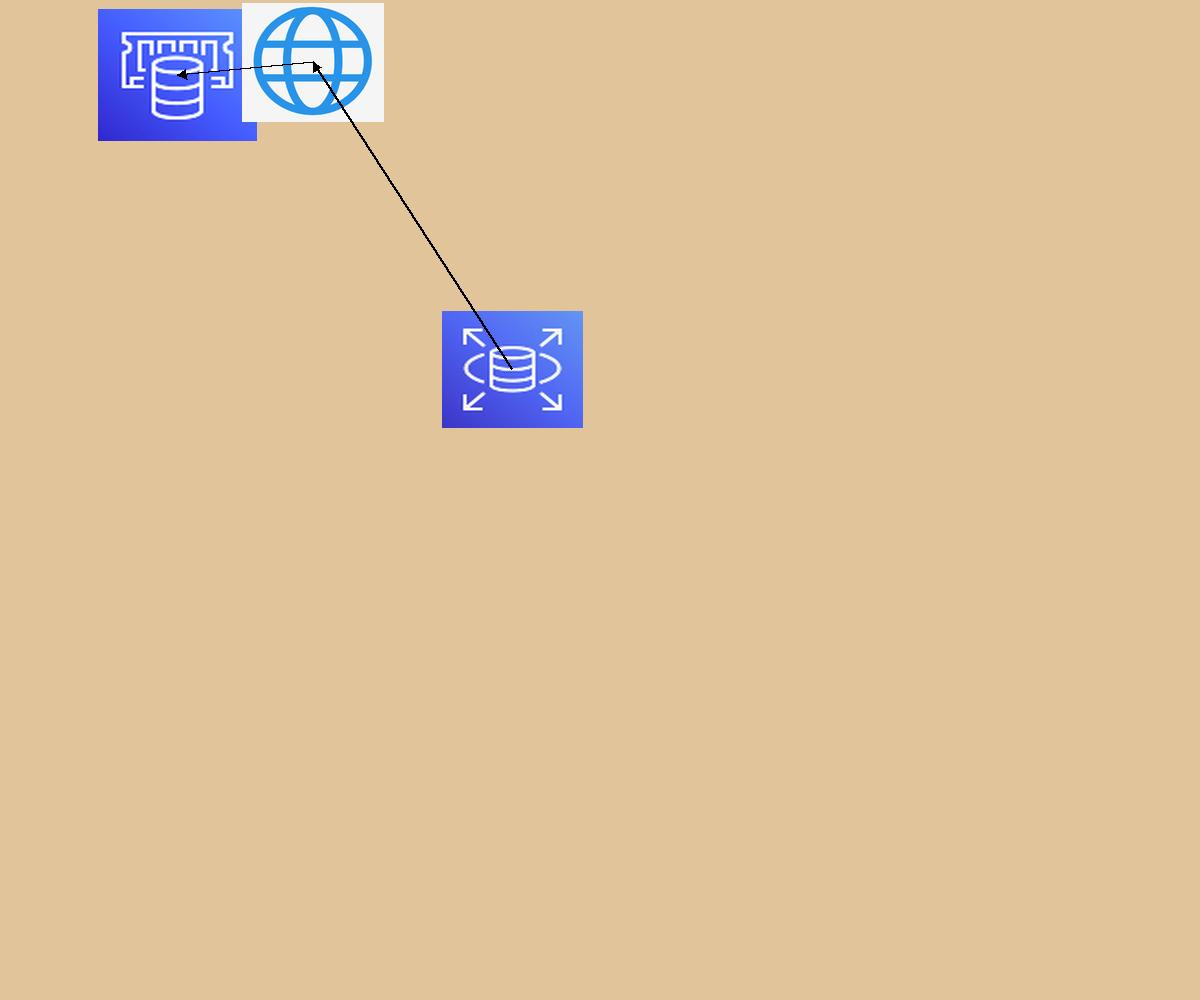AWS-ElastiCache: (98, 9, 257, 141)
AWS-RDS: (442, 311, 583, 428)
Azure_http: (242, 3, 384, 122)
